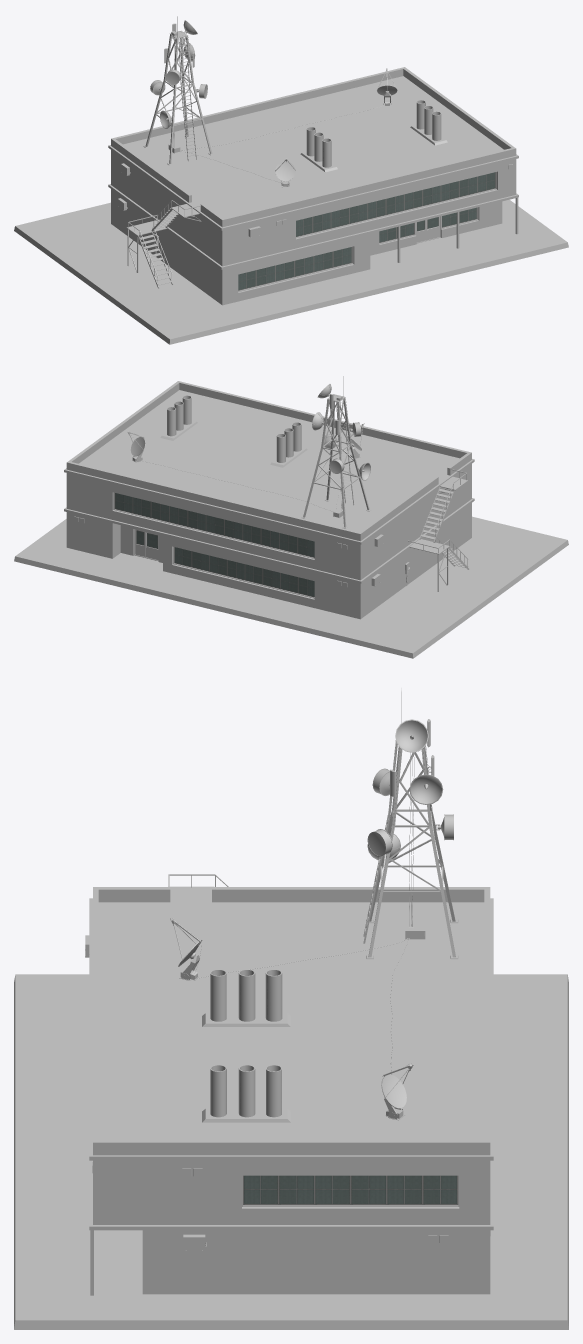
The model's file is office_building.fbx.
3 renders of one model, top to bottom at view 1: azimuth 30°, elevation 25°; view 2: azimuth 150°, elevation 25°; view 3: azimuth 270°, elevation 25°, orthographic. The views are drawn at different scales.
Parts seen in each view (by area): view 1: building_2, communication_antenna; view 2: building_2, communication_antenna; view 3: building_2, communication_antenna, satellite_dish_2.
Part boxes in pixels (x1,y1,x2,y2): building_2: [14, 67, 568, 344]; communication_antenna: [143, 16, 213, 165]; building_2: [14, 381, 568, 658]; communication_antenna: [301, 376, 371, 528]; building_2: [14, 874, 568, 1329]; communication_antenna: [363, 688, 458, 959]; satellite_dish_2: [381, 1064, 413, 1120].
Bounding box in the file's own units: 2529 × 1348 × 1708.
